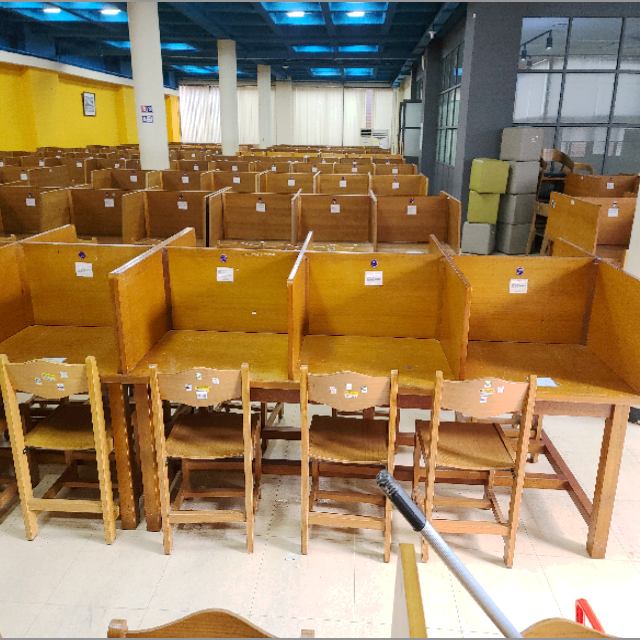empty: (299, 252, 466, 474), (115, 256, 292, 457), (475, 254, 640, 469)
